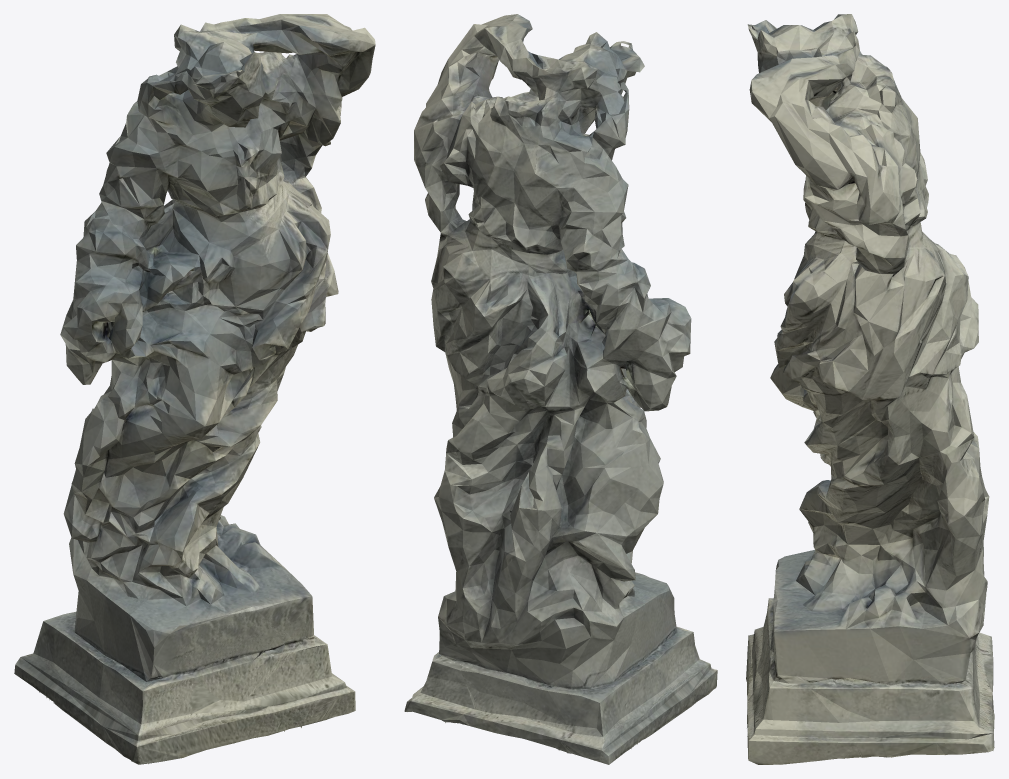
File: lehkomyslnost.glb
3 views of the same model, side by side, from view 1: azimuth 30°, elevation 25°; view 2: azimuth 150°, elevation 25°; view 3: azimuth 270°, elevation 25° (orthographic). The views are drawn at different scales.
Parts seen in each view (by area): view 1: Lehkomyslnost; view 2: Lehkomyslnost; view 3: Lehkomyslnost.
Part boxes in pixels (<box>): Lehkomyslnost: <box>14,14,375,764</box>; Lehkomyslnost: <box>404,14,717,764</box>; Lehkomyslnost: <box>746,14,994,764</box>.
Bounding box in the file's own units: 1.12 × 2.57 × 0.839.
Materials: 1 (1 with a texture image).
